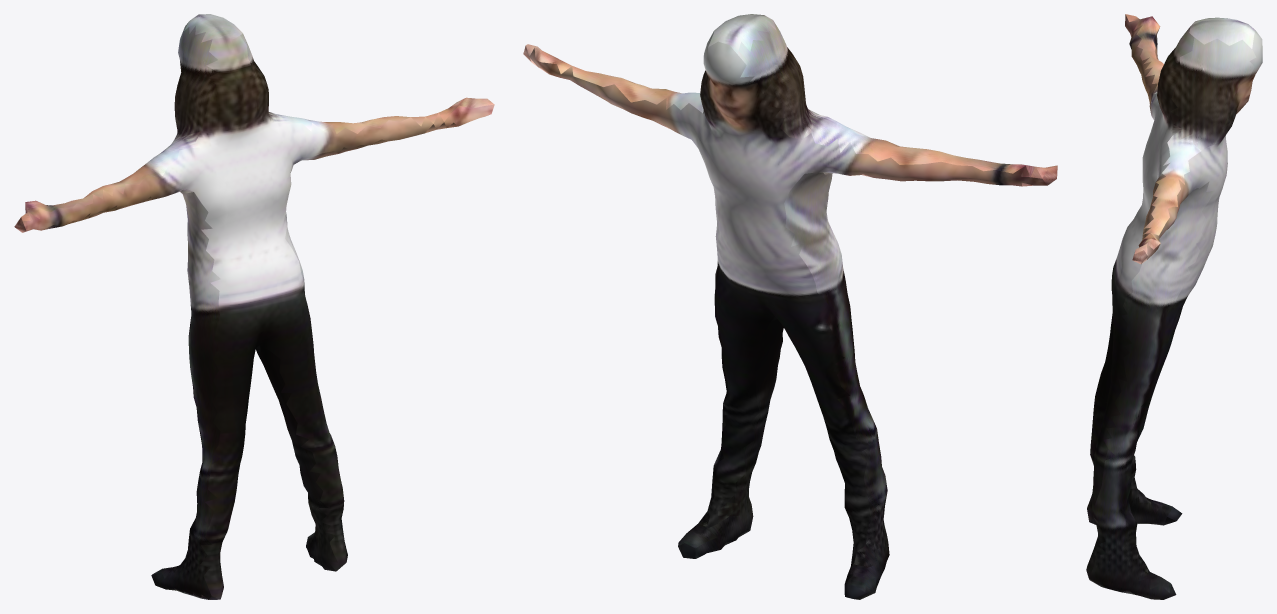
3 renders of one model, left to right at view 1: azimuth 30°, elevation 25°; view 2: azimuth 150°, elevation 25°; view 3: azimuth 270°, elevation 25°, orthographic. The views are drawn at different scales.
Parts seen in each view (by area): view 1: world; view 2: world; view 3: world.
Part boxes in pixels (box(x1,y1,x2,y2)): world: box(14, 14, 494, 599); world: box(523, 14, 1057, 599); world: box(1086, 14, 1262, 599).
Size of the model in its own units: 0.9537 by 0.997 by 0.2965.
Materials: 1 (1 with a texture image).
